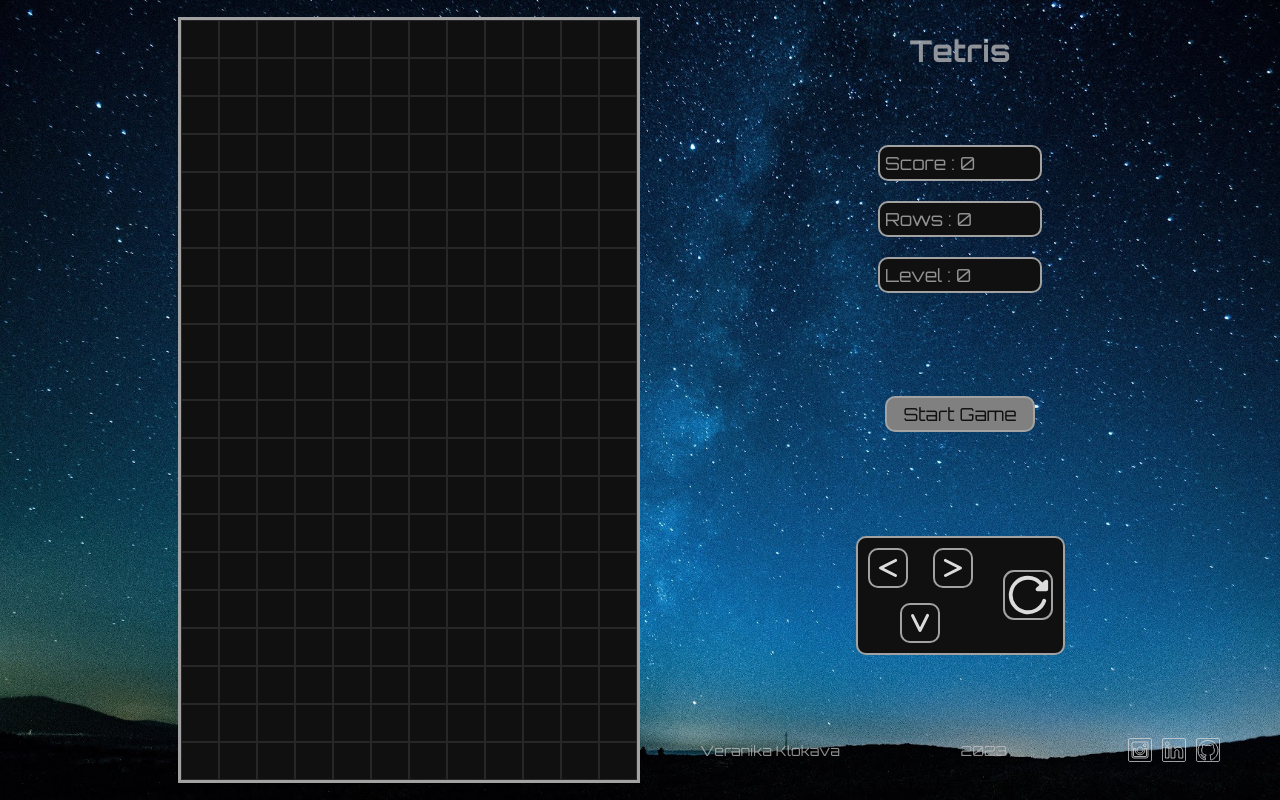
Test case: Test buttons › The pause button should appear on the screen › When you click on the start game button
The image size is (1280, 800).
Click the button with test id "start-game-btn" at (960, 414), box x1=885 y1=396 x2=1035 y2=432
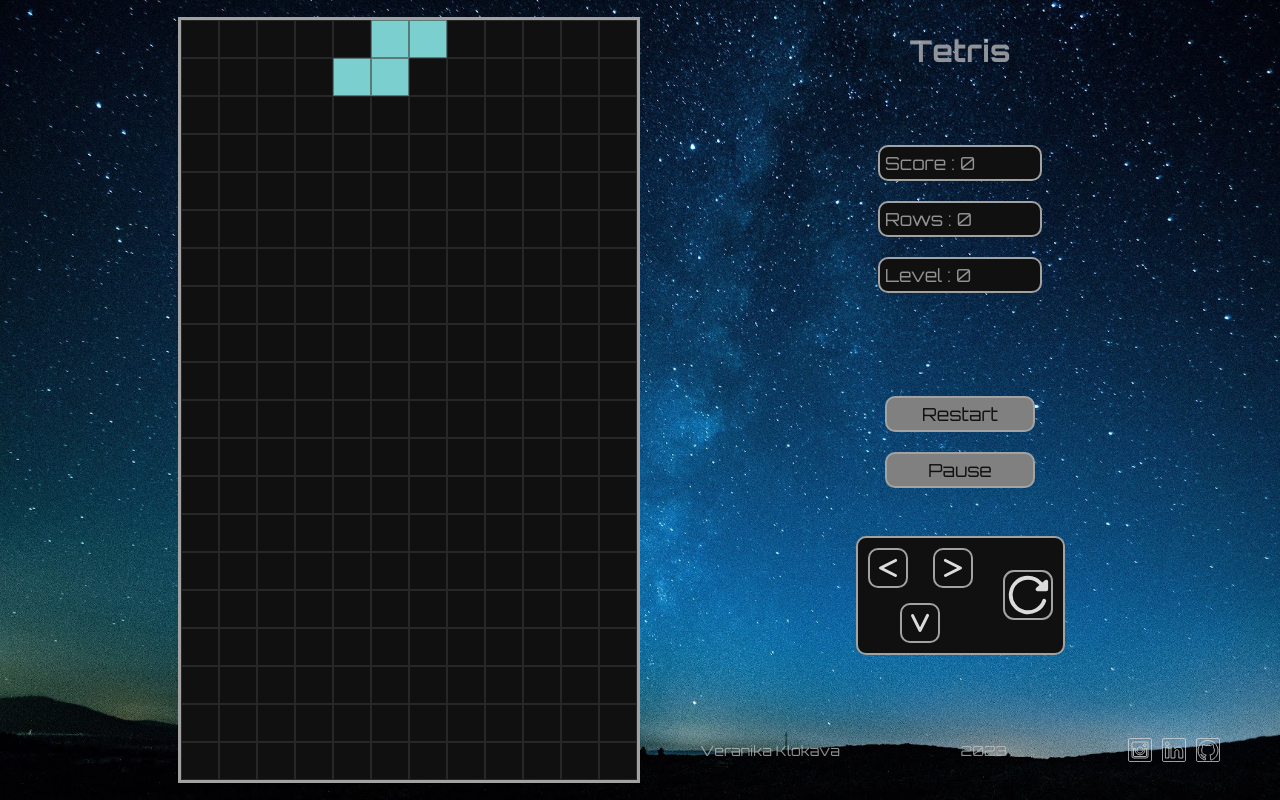
Result: the button with test id "pause-game-btn" is shown at x1=885 y1=452 x2=1035 y2=488
